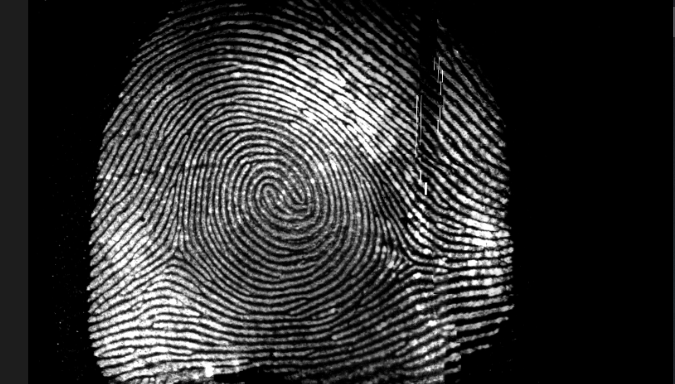nucelo: (251, 179, 295, 225)
verticilo: (391, 247, 425, 274), (160, 239, 189, 270)
